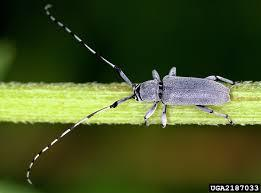Insects: (22, 0, 253, 190)
